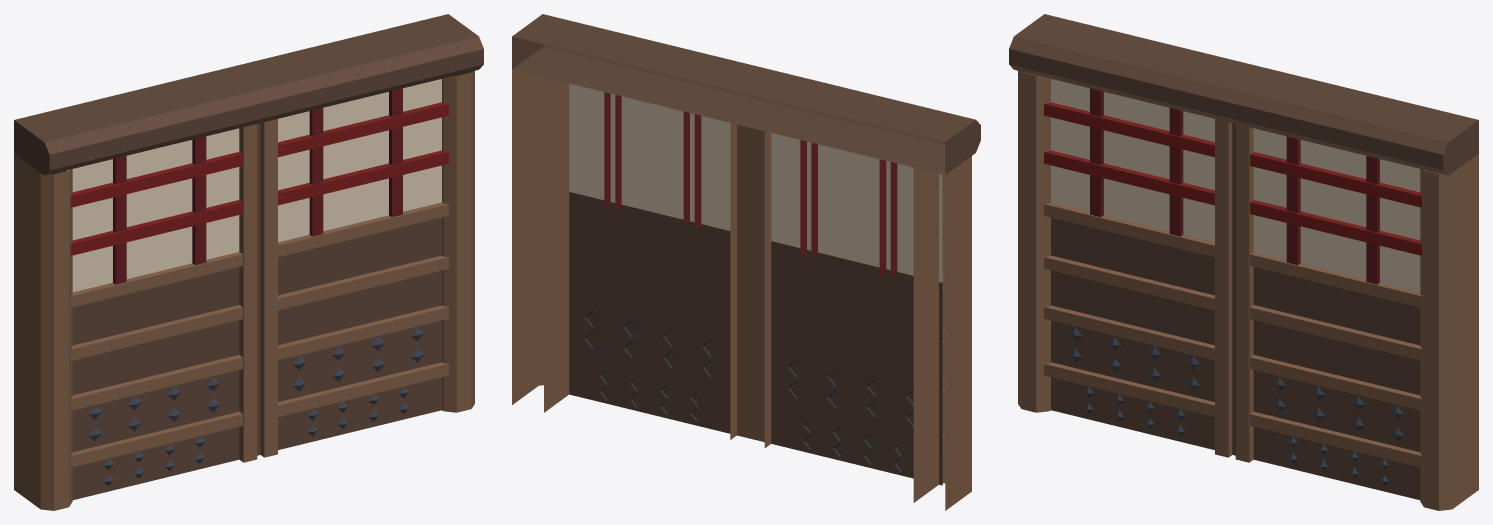
File: Door_4  Asia.fbx
3 renders of one model, left to right at view 1: azimuth 30°, elevation 25°; view 2: azimuth 150°, elevation 25°; view 3: azimuth 330°, elevation 25°, orthographic.
Visible parts, largest first — view 1: Door_4; view 2: Door_4; view 3: Door_4.
Part boxes in pixels (<box>): Door_4: <box>14,14,483,510</box>; Door_4: <box>512,14,980,510</box>; Door_4: <box>1009,14,1478,510</box>.
Bounding box in the file's own units: 3.13 × 2.54 × 0.4431.
